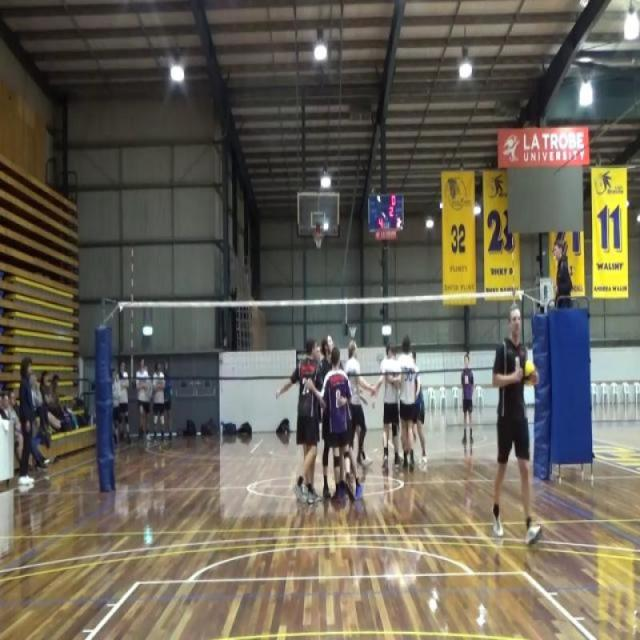volleyball: (523, 361, 536, 384)
